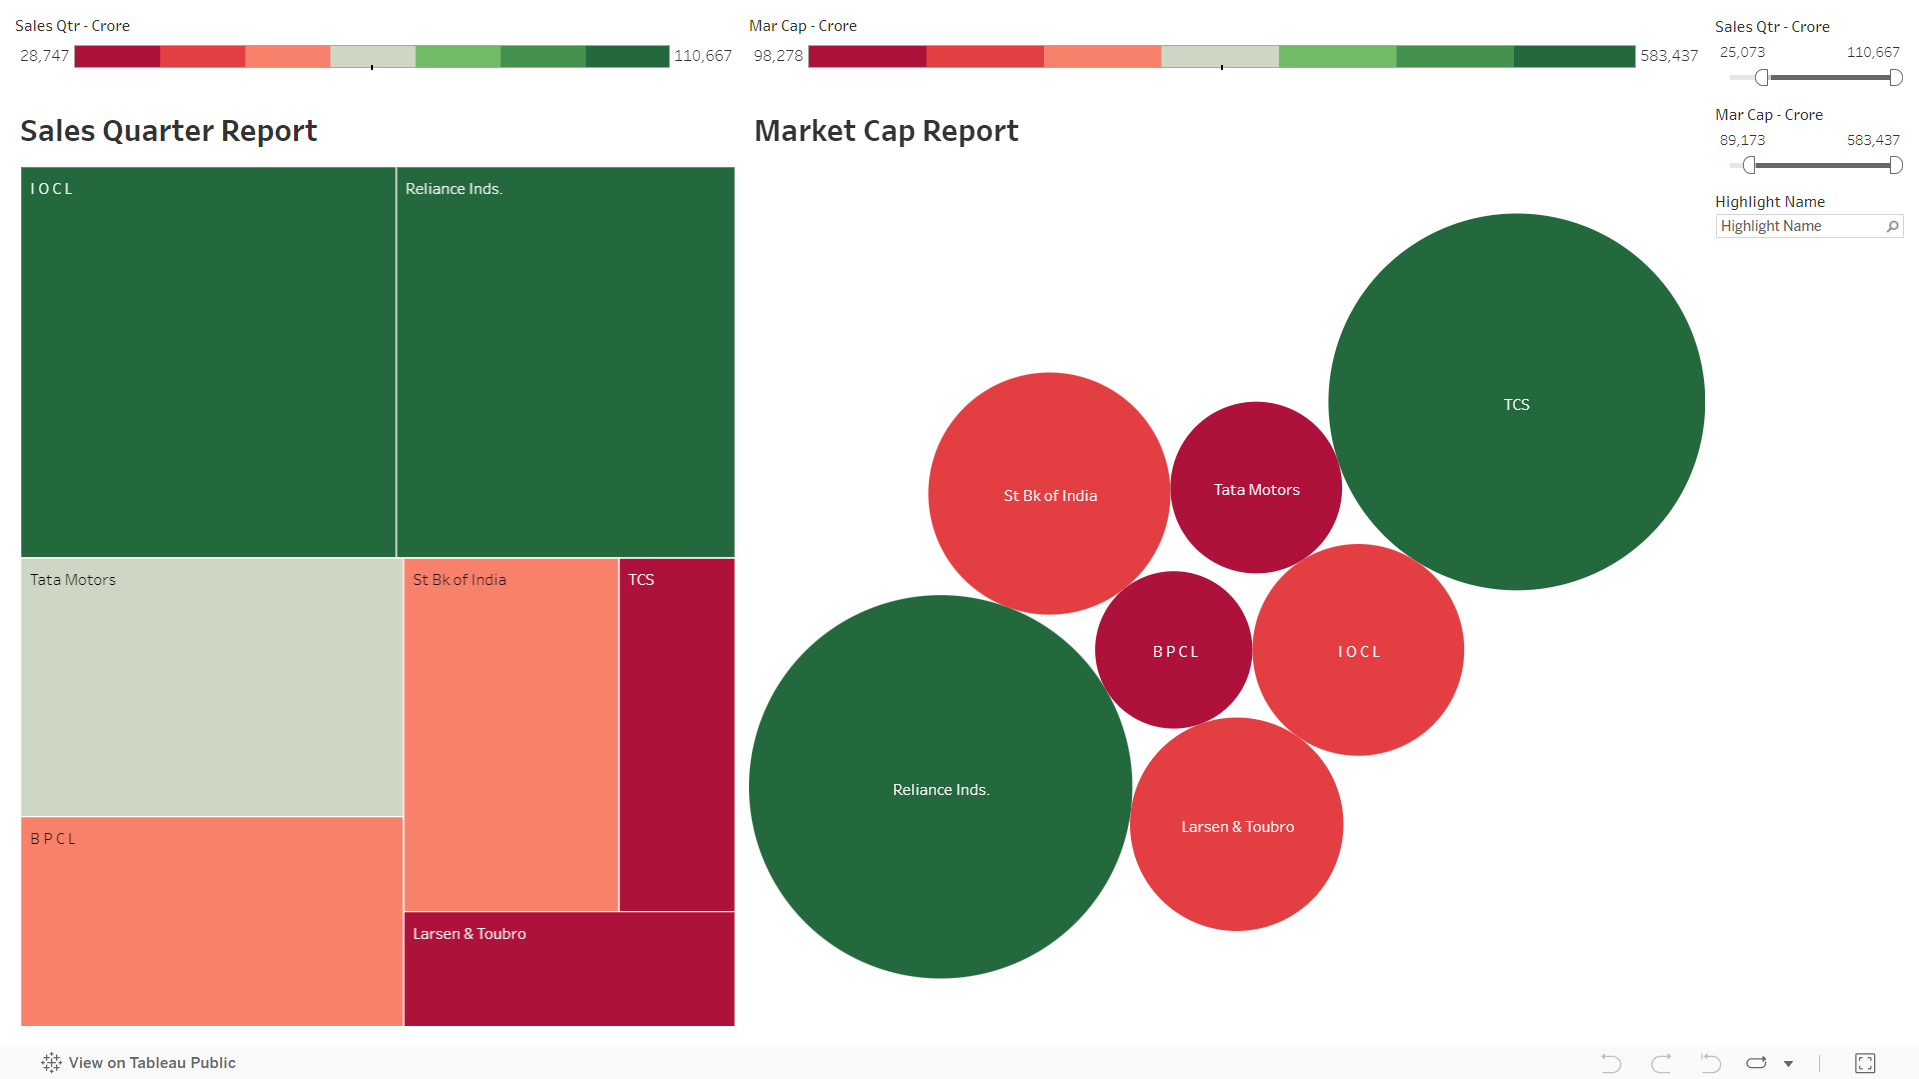

What the dashboard file says about the page in this screenshot:
{"tool":"tableau","page":{"name":"Dashboard 1","canvas":[1000,1000],"units":"permille","ordinal":0},"visuals":[{"type":"legend","title":"Sheet 1","param":"[federated.1k1pzgq1un3kue1am84mj1ioj824].[sum:Sales Qtr - Crore:qk]","box":[4.8,10,427.3,91.1]},{"type":"legend","title":"Sheet 2","param":"[federated.1k1pzgq1un3kue1am84mj1ioj824].[sum:Mar Cap - Crore:qk]","box":[432.1,10,466.5,91.1]},{"type":"filter","title":"Sheet 1","param":"[federated.1k1pzgq1un3kue1am84mj1ioj824].[sum:Sales Qtr - Crore:qk]","box":[898.6,10,96.6,91.1]},{"type":"worksheet","title":"Sheet 1","mark":"Automatic","box":[4.8,101.1,427.3,888.9]},{"type":"worksheet","title":"Sheet 2","mark":"Circle","box":[432.1,101.1,466.5,888.9]},{"type":"filter","title":"Sheet 2","param":"[federated.1k1pzgq1un3kue1am84mj1ioj824].[sum:Mar Cap - Crore:qk]","box":[898.6,101.1,96.6,91.1]},{"type":"highlighter","title":"Sheet 2","param":"[federated.1k1pzgq1un3kue1am84mj1ioj824].[none:Name:nk]","box":[898.6,192.3,96.6,69.9]}]}

Visuals, with their boxes on the dashboard's canvas, which has no fixed pixel size, in thousandths of its width and height (x1, y1, x2, y2). These are canvas units, not pixel positions in the 1919x1079 screenshot, which may show the page scaled, cropped or inside an application window:
"Sheet 1" legend: (x1=5, y1=10, x2=432, y2=101)
"Sheet 2" legend: (x1=432, y1=10, x2=899, y2=101)
"Sheet 1" filter: (x1=899, y1=10, x2=995, y2=101)
"Sheet 1" worksheet: (x1=5, y1=101, x2=432, y2=990)
"Sheet 2" worksheet (Circle marks): (x1=432, y1=101, x2=899, y2=990)
"Sheet 2" filter: (x1=899, y1=101, x2=995, y2=192)
"Sheet 2" highlighter: (x1=899, y1=192, x2=995, y2=262)
